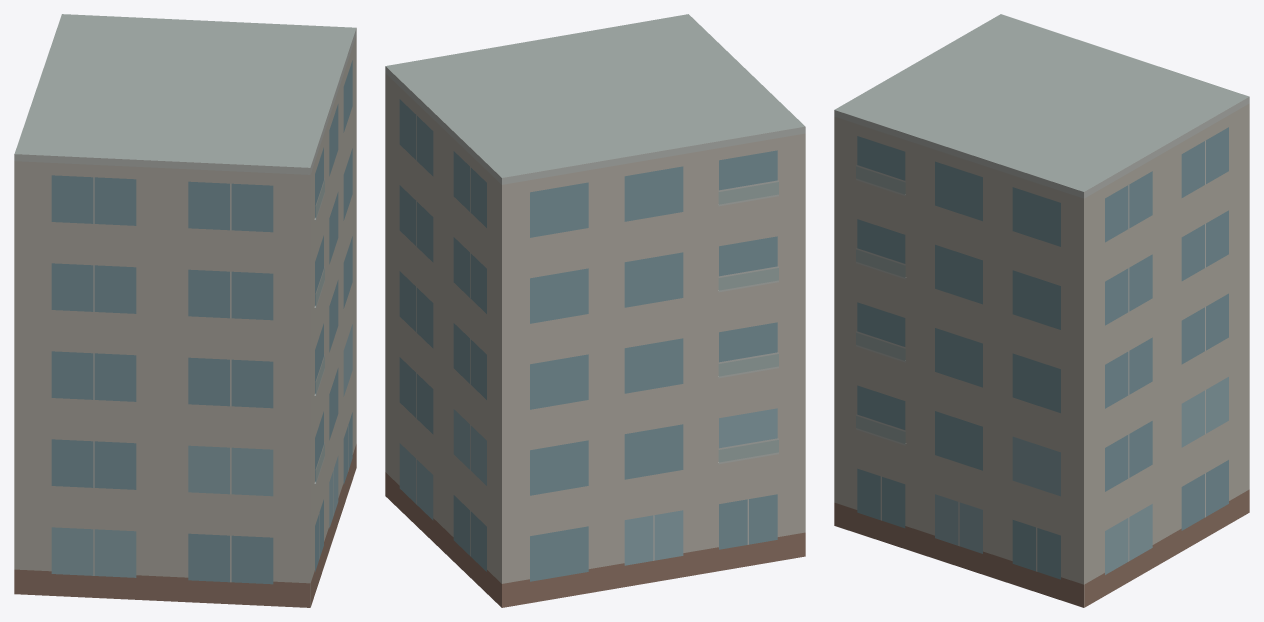
Rendered from survey-upis-33008728.glb.
3 views of the same model, side by side, from view 1: azimuth 30°, elevation 25°; view 2: azimuth 150°, elevation 25°; view 3: azimuth 270°, elevation 25° (orthographic). The views are drawn at different scales.
Visible parts, largest first — view 1: survey-upis-33008728.tmp; view 2: survey-upis-33008728.tmp; view 3: survey-upis-33008728.tmp.
Boxes of the visible parts, x1=… form: survey-upis-33008728.tmp: x1=14, y1=14, x2=356, y2=607; survey-upis-33008728.tmp: x1=385, y1=14, x2=805, y2=607; survey-upis-33008728.tmp: x1=834, y1=14, x2=1249, y2=607.
Size of the model in its own units: 14.01 by 15.25 by 13.82.
